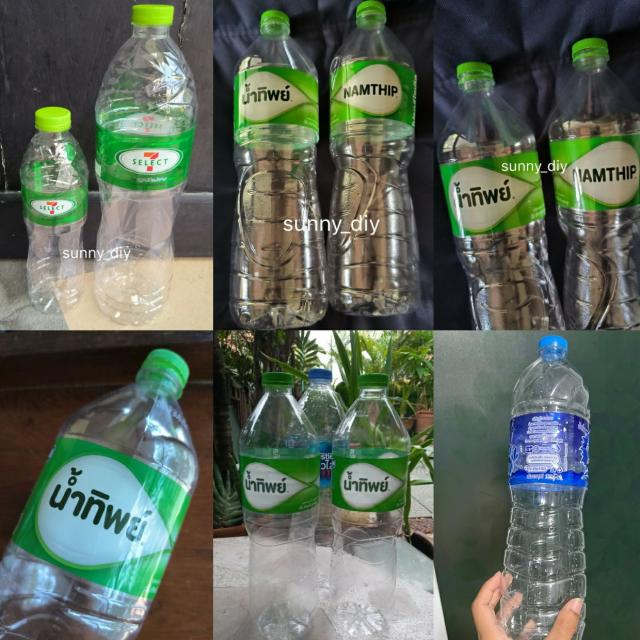plastik: (0, 349, 198, 640), (437, 62, 565, 329), (93, 5, 197, 325), (229, 12, 327, 329), (329, 1, 421, 316), (500, 336, 589, 640), (548, 40, 640, 329), (238, 372, 319, 638), (330, 374, 410, 636), (20, 107, 88, 313), (299, 368, 345, 595)
